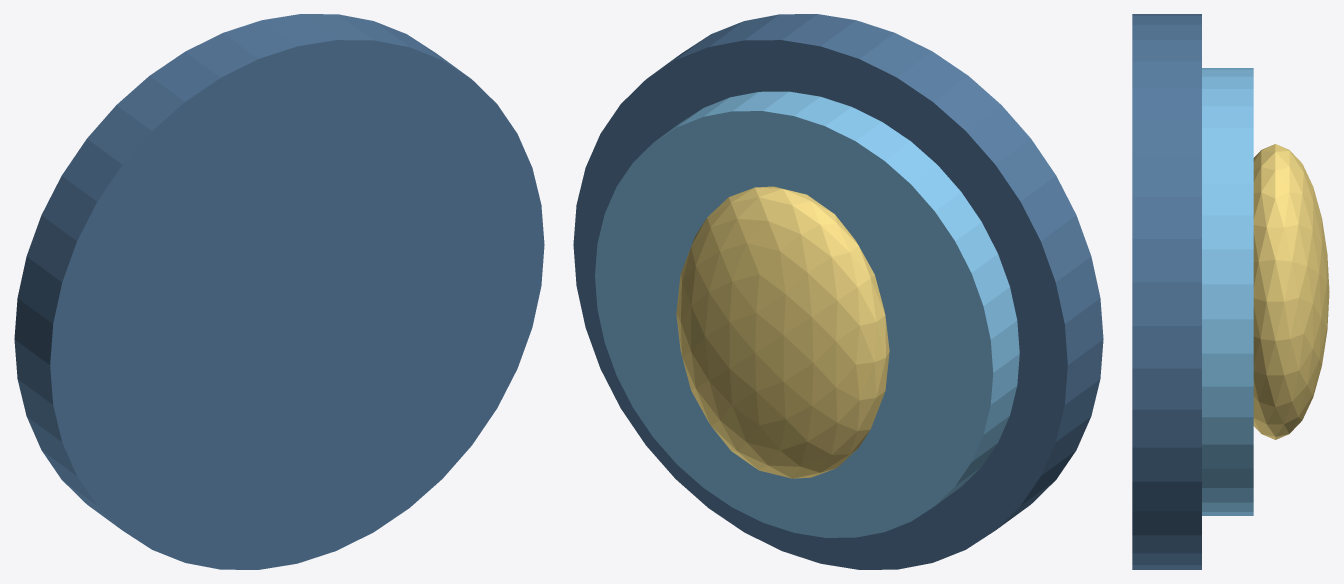
File: blue_tee.glb
3 views of the same model, side by side, from view 1: azimuth 30°, elevation 25°; view 2: azimuth 150°, elevation 25°; view 3: azimuth 270°, elevation 25° (orthographic). The views are drawn at different scales.
Visible parts, largest first — view 1: blue_tee_0; view 2: blue_tee_1, blue_tee_0, blue_tee_2; view 3: blue_tee_0, blue_tee_1, blue_tee_2.
Boxes of the visible parts, box(x1,y1,x2,y2) form: blue_tee_0: box(14, 14, 544, 569); blue_tee_1: box(595, 91, 1019, 537); blue_tee_0: box(573, 14, 1103, 569); blue_tee_2: box(676, 186, 889, 478); blue_tee_0: box(1132, 14, 1201, 569); blue_tee_1: box(1202, 68, 1253, 515); blue_tee_2: box(1253, 144, 1329, 439).
Bounding box in the file's own units: 0.36 × 0.36 × 0.1275.
